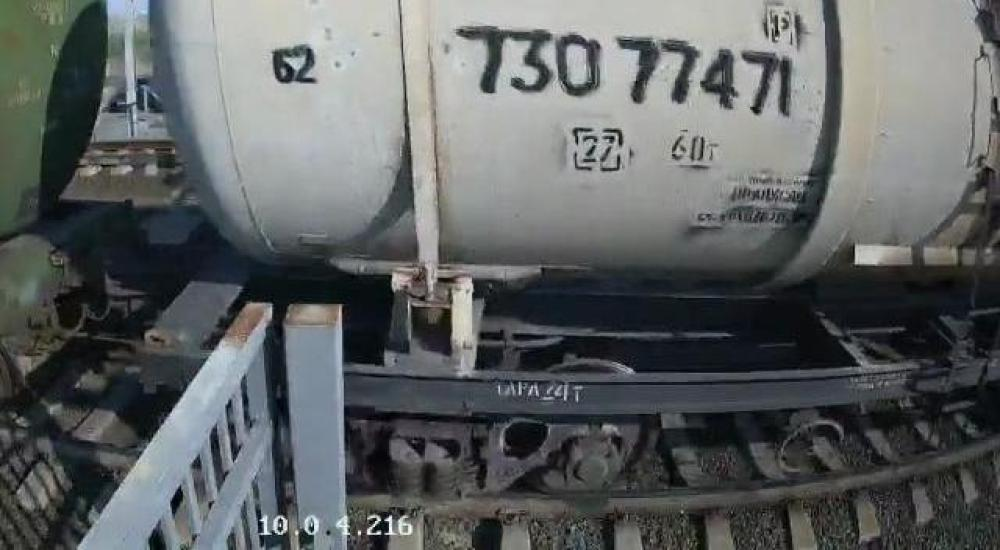Wagon-number: (456, 22, 796, 122)
